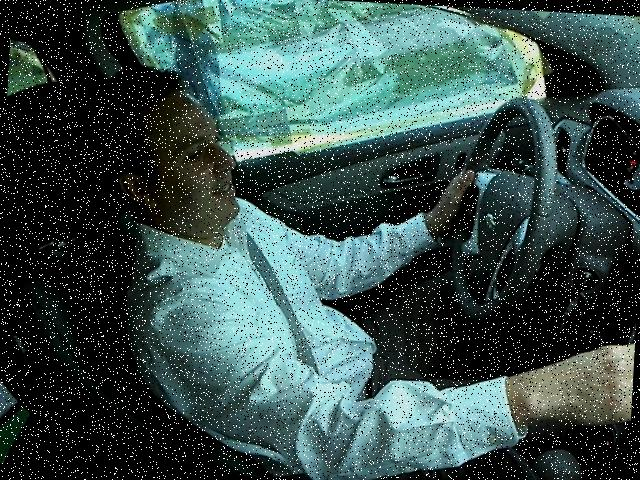c3 - Operating the Radio: (47, 55, 639, 479)
